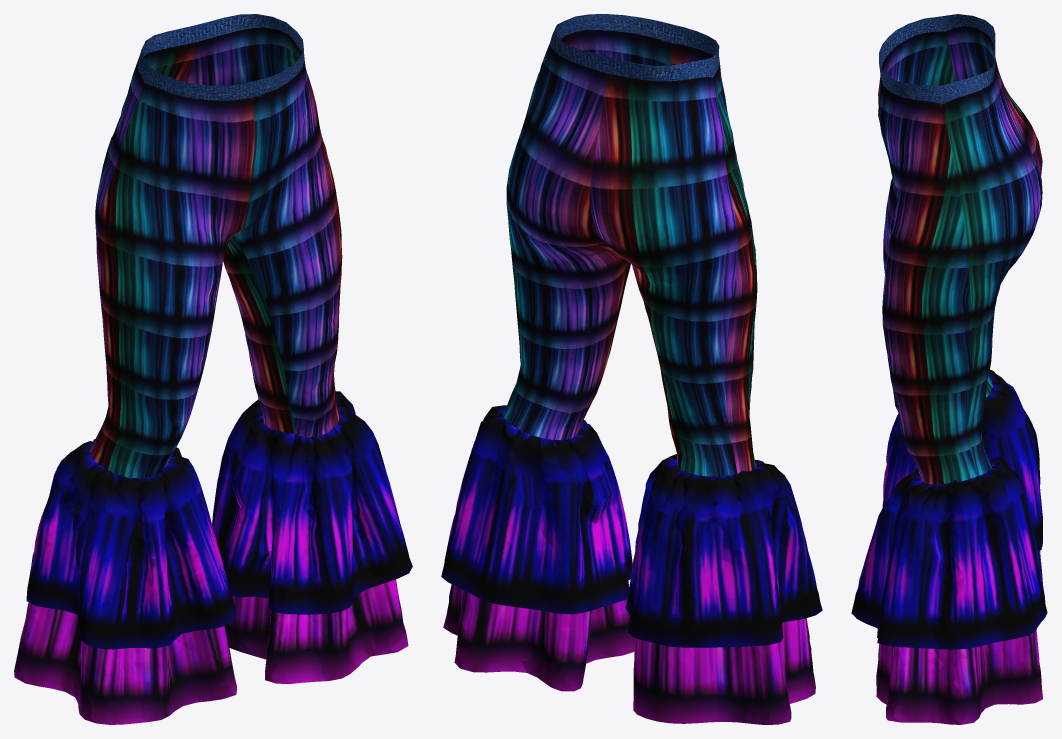
File: elvs-disco-pants-double-ruffles.glb
3 views of the same model, side by side, from view 1: azimuth 30°, elevation 25°; view 2: azimuth 150°, elevation 25°; view 3: azimuth 270°, elevation 25° (orthographic). The views are drawn at different scales.
Parts seen in each view (by area): view 1: disco pants double ruffles; view 2: disco pants double ruffles; view 3: disco pants double ruffles.
Part boxes in pixels (x1,y1,x2,y2): disco pants double ruffles: [14, 14, 412, 724]; disco pants double ruffles: [441, 14, 822, 724]; disco pants double ruffles: [851, 14, 1047, 724].
Size of the model in its own units: 58.7 by 99.76 by 28.98.
Materials: 1 (1 with a texture image).
